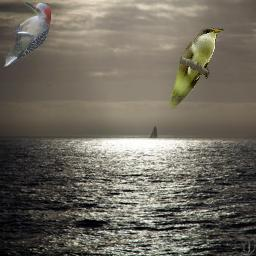Cuckoo: (168, 27, 224, 109)
Woodpecker: (3, 1, 51, 68)
